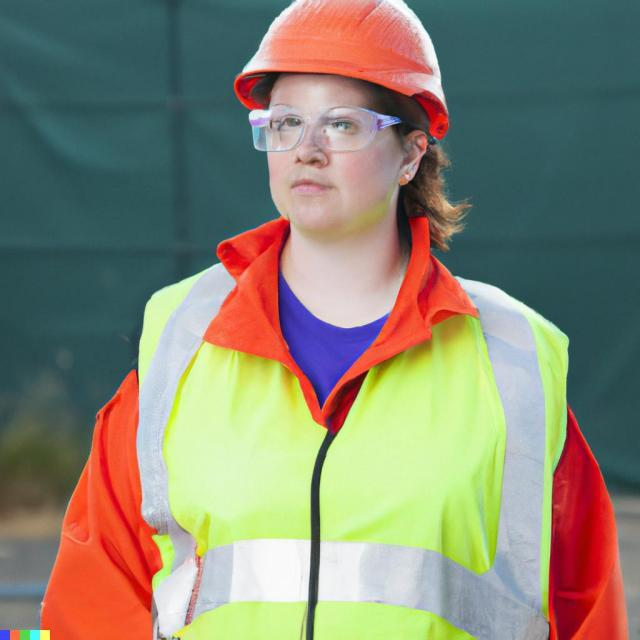reflective_jacket: (71, 230, 594, 639)
safety_helmet: (232, 0, 453, 132)
